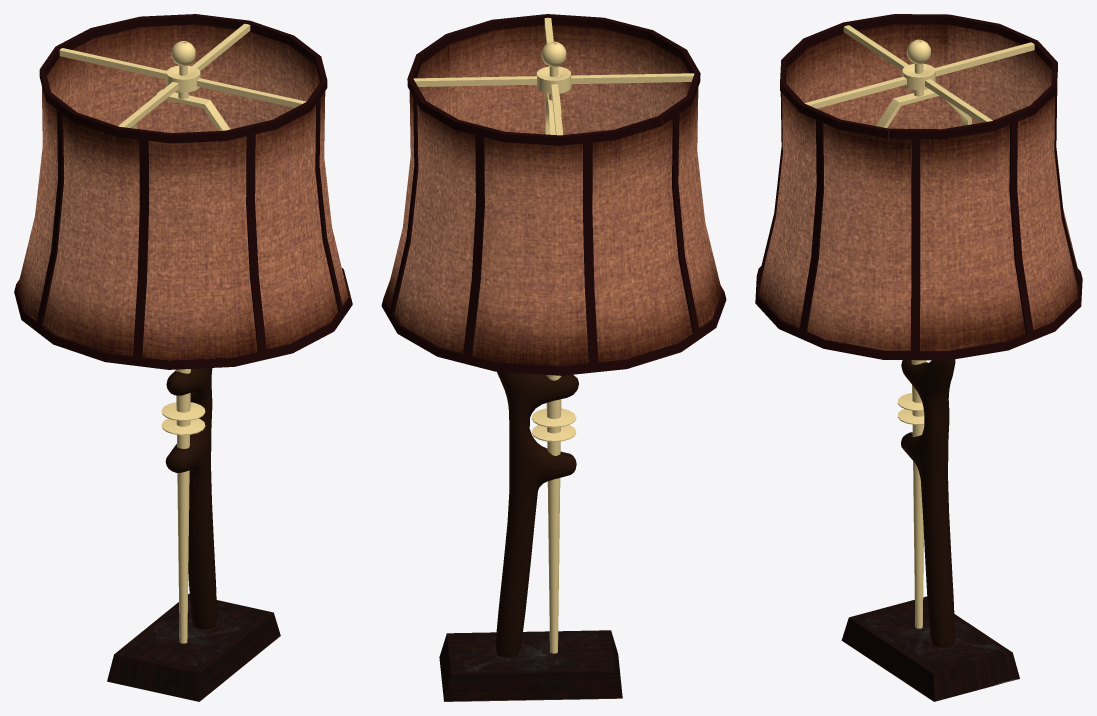
File: lamp.glb
The picture shows the model from 3 angles, left to right: view 1: azimuth 30°, elevation 25°; view 2: azimuth 150°, elevation 25°; view 3: azimuth 270°, elevation 25°; orthographic projection. The views are drawn at different scales.
Parts seen in each view (by area): view 1: #LMP0005_Deco_Bone_Gold_Abstract; view 2: #LMP0005_Deco_Bone_Gold_Abstract; view 3: #LMP0005_Deco_Bone_Gold_Abstract.
Boxes of the visible parts, x1=… form: #LMP0005_Deco_Bone_Gold_Abstract: x1=14, y1=14, x2=352, y2=701; #LMP0005_Deco_Bone_Gold_Abstract: x1=381, y1=14, x2=726, y2=701; #LMP0005_Deco_Bone_Gold_Abstract: x1=755, y1=14, x2=1082, y2=701.
Size of the model in its own units: 0.3211 by 0.6604 by 0.3211.
Materials: 1 (1 with a texture image).
